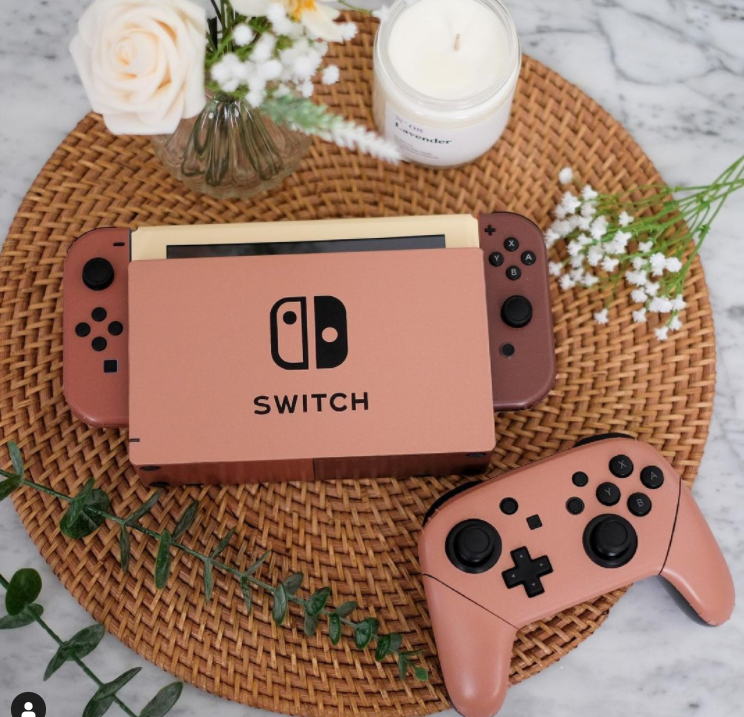gamingconsole: (413, 433, 737, 717)
